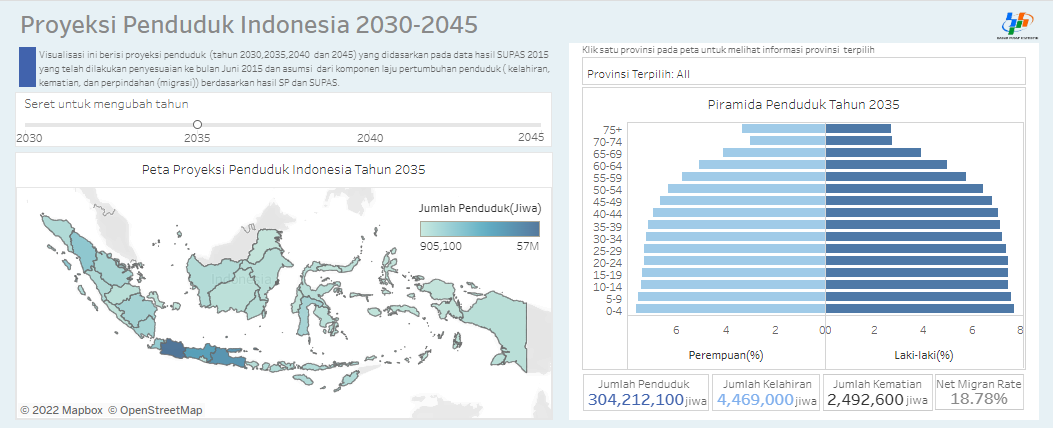

The page's visual inventory and layout, read from the dashboard file:
{"tool":"tableau","page":{"name":"Dashboard 1","canvas":[1057,431],"ordinal":0},"visuals":[{"type":"title","box":[0,0,1057,45]},{"type":"text","box":[40,36,522,61]},{"type":"blank","box":[20,46,17,40]},{"type":"blank","box":[570,47,470,372]},{"type":"text","box":[580,48,302,9]},{"type":"worksheet","title":"Provinsi","mark":"Automatic","rows":["Provinsi","Tahun"],"box":[582,62,446,18]},{"type":"worksheet","title":"Piramida","mark":"Automatic","rows":["Umur"],"cols":["Calculation_670473441037713409","persentase_pr","Persentase_lk"],"box":[583,85,444,284]},{"type":"parameter","param":"[Parameters].[Parameter 1]","box":[16,91,535,53]},{"type":"text","box":[519,128,33,13]},{"type":"text","box":[181,129,40,14]},{"type":"text","box":[353,129,32,13]},{"type":"text","box":[17,130,29,12]},{"type":"worksheet","title":"Peta","mark":"Automatic","cols":["Calculation_670473441037713409"],"box":[16,151,538,268]},{"type":"legend","title":"Peta","param":"[federated.0pkwzjl12j2r901bpo34p00b1yaw].[sum:Populasi_real:qk]","box":[417,199,128,55]},{"type":"text","box":[589,371,180,28]},{"type":"text","box":[735,372,104,23]},{"type":"text","box":[948,373,101,16]},{"type":"worksheet","title":"Jumlah Penduduk Indonesia","mark":"Automatic","rows":["Calculation_670473441037713409"],"box":[583,374,137,35]},{"type":"worksheet","title":"Jumlah Kelahiran","mark":"Automatic","rows":["Calculation_670473441037713409"],"box":[722,374,111,36]},{"type":"worksheet","title":"Jumlah Kematian","mark":"Automatic","rows":["Calculation_670473441037713409"],"box":[835,374,108,36]},{"type":"text","box":[854,374,83,17]},{"type":"worksheet","title":"Net Migran Rate","mark":"Automatic","rows":["Calculation_670473441037713409"],"box":[945,374,80,35]},{"type":"text","box":[920,384,23,30]},{"type":"text","box":[806,385,23,30]},{"type":"text","box":[690,387,23,30]}]}

Visuals, with their boxes in screenshot pixels (x1, y1, x2, y2), scaled from the page's 1057x431 canvas onto the 1053x428 screenshot:
title: [0,0,1052,45]
text: [40,36,560,96]
blank: [20,46,37,85]
blank: [568,47,1036,416]
text: [578,48,879,57]
"Provinsi" worksheet: [580,62,1024,79]
"Piramida" worksheet: [581,84,1023,366]
parameter: [16,90,549,143]
text: [517,127,550,140]
text: [180,128,220,142]
text: [352,128,384,141]
text: [17,129,46,141]
"Peta" worksheet: [16,150,552,416]
"Peta" legend: [415,198,543,252]
text: [587,368,766,396]
text: [732,369,836,392]
text: [944,370,1045,386]
"Jumlah Penduduk Indonesia" worksheet: [581,371,717,406]
"Jumlah Kelahiran" worksheet: [719,371,830,407]
"Jumlah Kematian" worksheet: [832,371,939,407]
text: [851,371,933,388]
"Net Migran Rate" worksheet: [941,371,1021,406]
text: [917,381,939,411]
text: [803,382,826,412]
text: [687,384,710,414]
